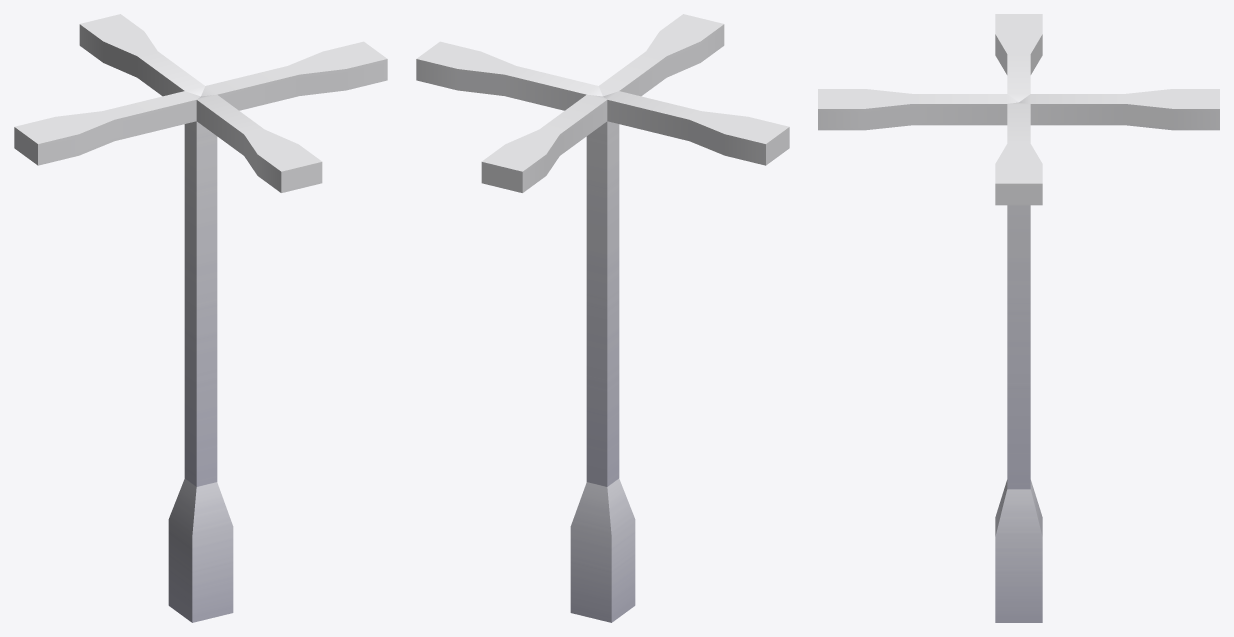
Rendered from light-square-cross.fbx.
The picture shows the model from 3 angles, left to right: view 1: azimuth 30°, elevation 25°; view 2: azimuth 150°, elevation 25°; view 3: azimuth 270°, elevation 25°; orthographic projection.
Visible parts, largest first — view 1: light-square-cross; view 2: light-square-cross; view 3: light-square-cross.
Part boxes in pixels (x1,y1,x2,y2): light-square-cross: (14,14,387,622); light-square-cross: (416,14,789,622); light-square-cross: (818,14,1219,622).
Size of the model in its own units: 0.425 by 0.6 by 0.425.
